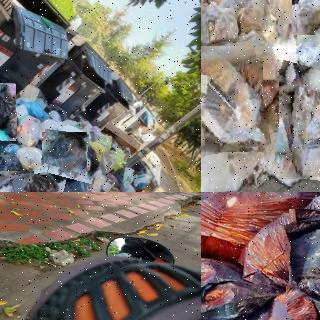Garbage: (235, 192, 320, 291), (201, 192, 320, 257), (201, 43, 267, 155), (276, 67, 320, 180), (283, 202, 320, 320), (236, 277, 320, 320), (281, 7, 320, 94), (201, 0, 243, 57), (41, 131, 88, 179), (0, 167, 66, 192), (38, 167, 92, 192), (291, 0, 320, 34), (0, 83, 16, 141)
